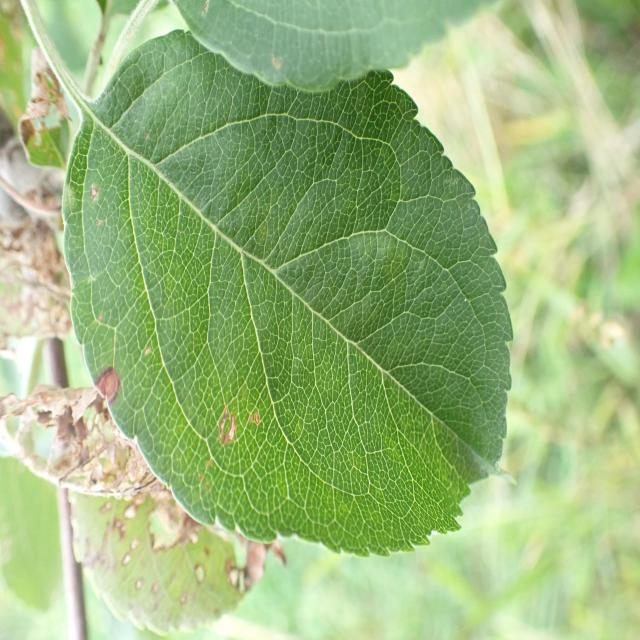Black Rot: (204, 394, 282, 462), (92, 348, 137, 410)
